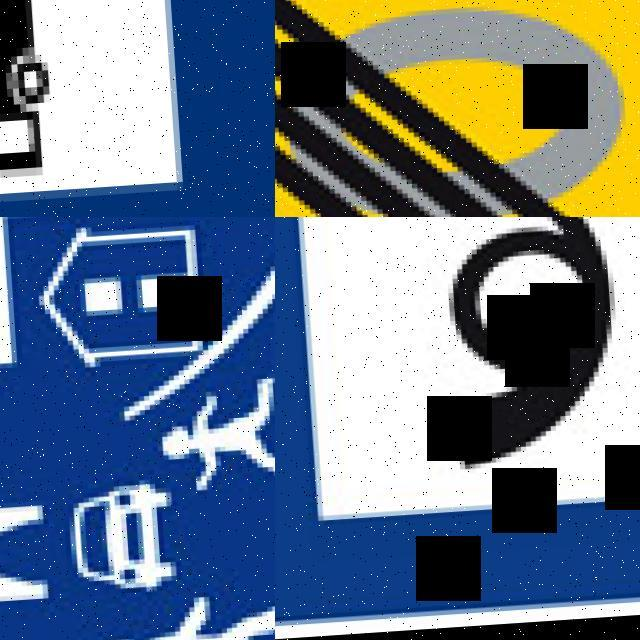124: (275, 0, 640, 217)
52: (0, 217, 275, 640)
89: (275, 217, 640, 640)
Bus stop: (0, 0, 275, 217)
